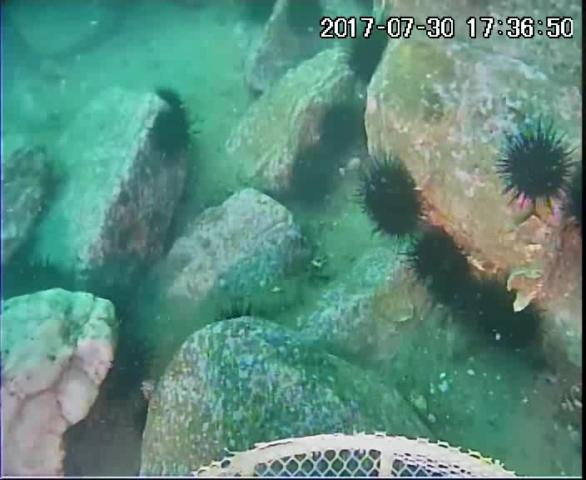echinus: (358, 156, 429, 237), (503, 133, 575, 211), (407, 227, 475, 304), (476, 284, 540, 353), (5, 253, 78, 304), (106, 331, 152, 403), (346, 25, 395, 79), (290, 153, 337, 202), (150, 114, 196, 158), (318, 106, 359, 149), (285, 1, 326, 36), (241, 1, 276, 23), (160, 90, 185, 114)
